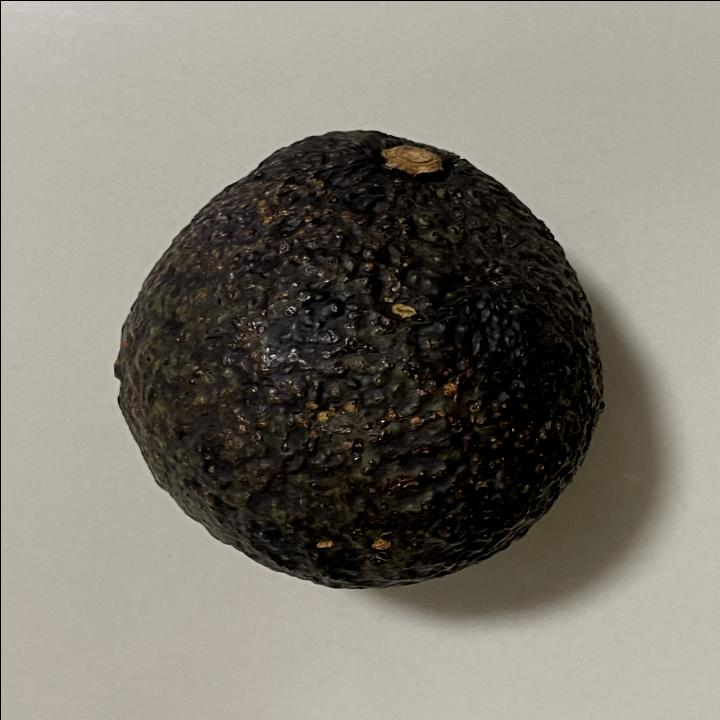Level2: (109, 121, 608, 594)
